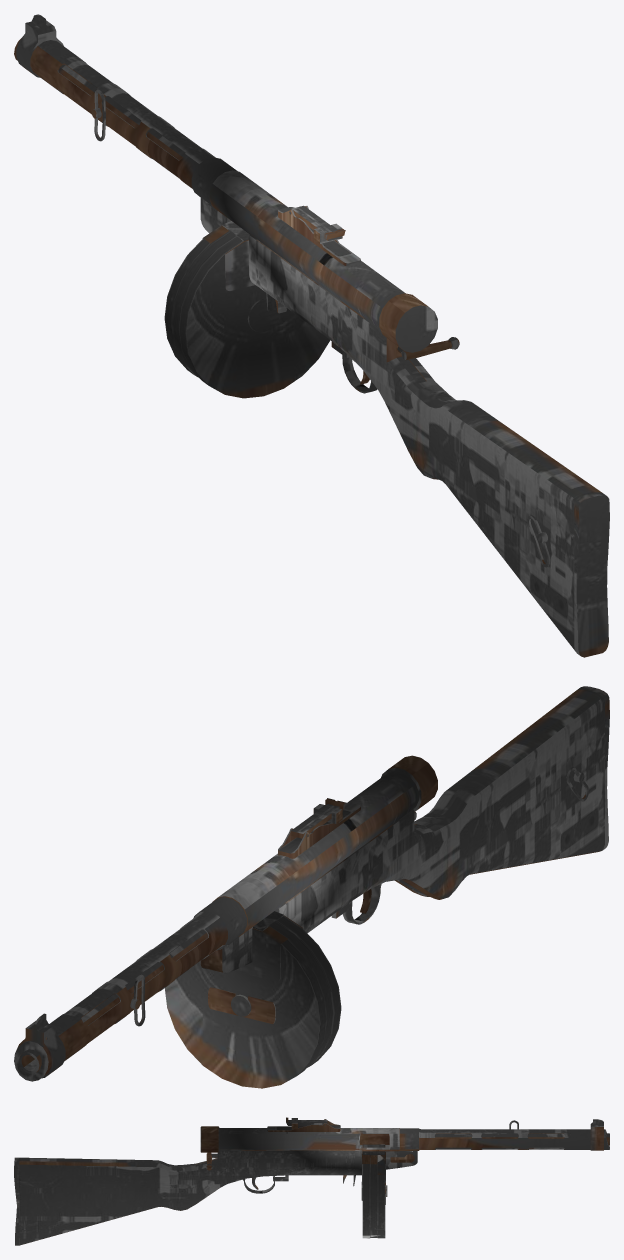
The model's file is suomi-kp.glb.
3 renders of one model, top to bottom at view 1: azimuth 30°, elevation 25°; view 2: azimuth 150°, elevation 25°; view 3: azimuth 270°, elevation 25°, orthographic. The views are drawn at different scales.
Visible parts, largest first — view 1: Body, Magazine; view 2: Body, Magazine; view 3: Body, Magazine.
Boxes of the visible parts, <box> form: Body: <box>14,14,609,657</box>; Magazine: <box>164,221,330,398</box>; Body: <box>14,686,609,1081</box>; Magazine: <box>164,911,341,1088</box>; Body: <box>14,1117,609,1245</box>; Magazine: <box>361,1144,387,1238</box>.
Bounding box in the file's own units: 0.1387 × 0.2003 × 0.8749.
1 material, 1 textured.
